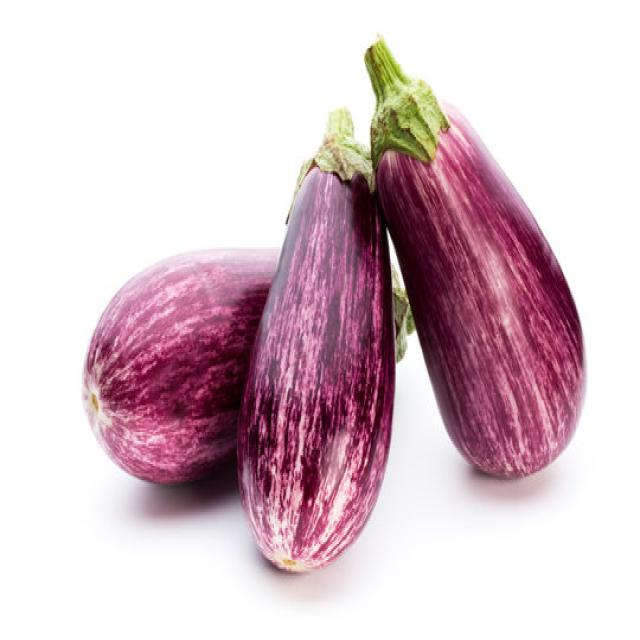Eggplant: (362, 34, 586, 480), (235, 105, 396, 572), (79, 244, 281, 486)
